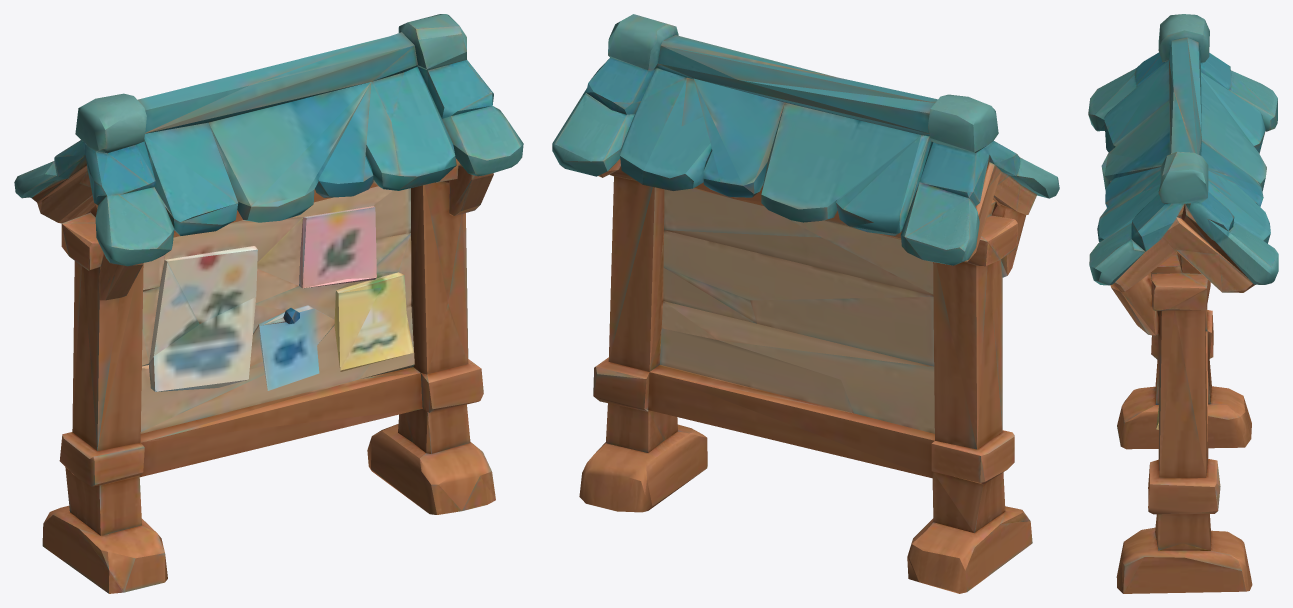
The model's file is deco-notice-board.glb.
3 views of the same model, side by side, from view 1: azimuth 30°, elevation 25°; view 2: azimuth 150°, elevation 25°; view 3: azimuth 270°, elevation 25° (orthographic). The views are drawn at different scales.
Visible parts, largest first — view 1: deco-notice-board-fit; view 2: deco-notice-board-fit; view 3: deco-notice-board-fit.
Part boxes in pixels (x1,y1,x2,y2): deco-notice-board-fit: (14,14,523,593); deco-notice-board-fit: (552,14,1059,593); deco-notice-board-fit: (1088,14,1278,593).
Size of the model in its own units: 1.89 by 2 by 0.8217.
Materials: 1 (1 with a texture image).
